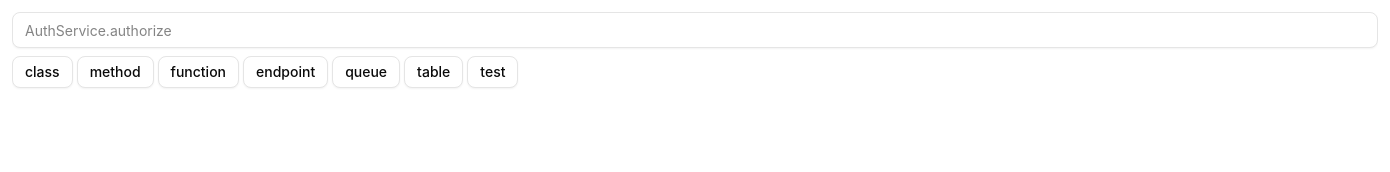
Test case: graph explorer search › kind_filter_applied
Type "authorize" into the search field named "Search symbols". click: (695, 30)
box: left=12, top=12, right=1378, bottom=48
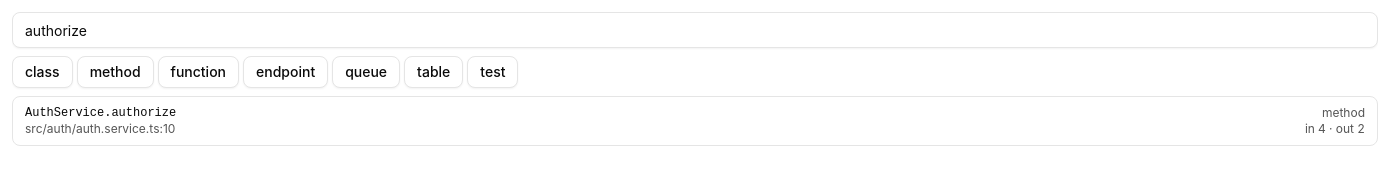
Now the text "AuthService.authorize" is shown, box left=25, top=105, right=176, bottom=121
Click the button "method". click: (115, 72)
box: left=77, top=56, right=154, bottom=88
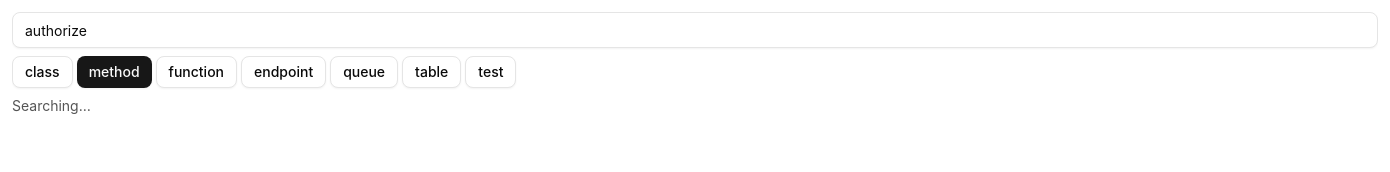
Click the button "endpoint". click: (284, 72)
box: left=241, top=56, right=326, bottom=88
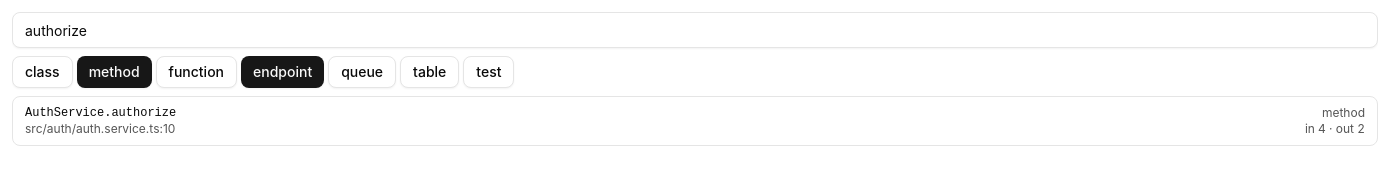
Now the text "in 4 · out 2" is shown, box left=1305, top=121, right=1365, bottom=137
Now the text "src/auth/auth.service.ts:10" is shown, box left=25, top=121, right=175, bottom=137
